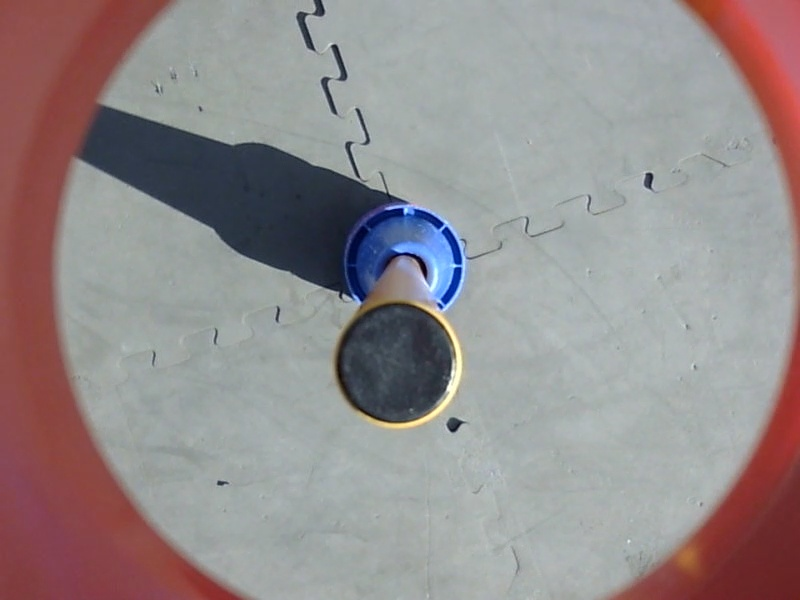tip: (324, 294, 468, 434)
